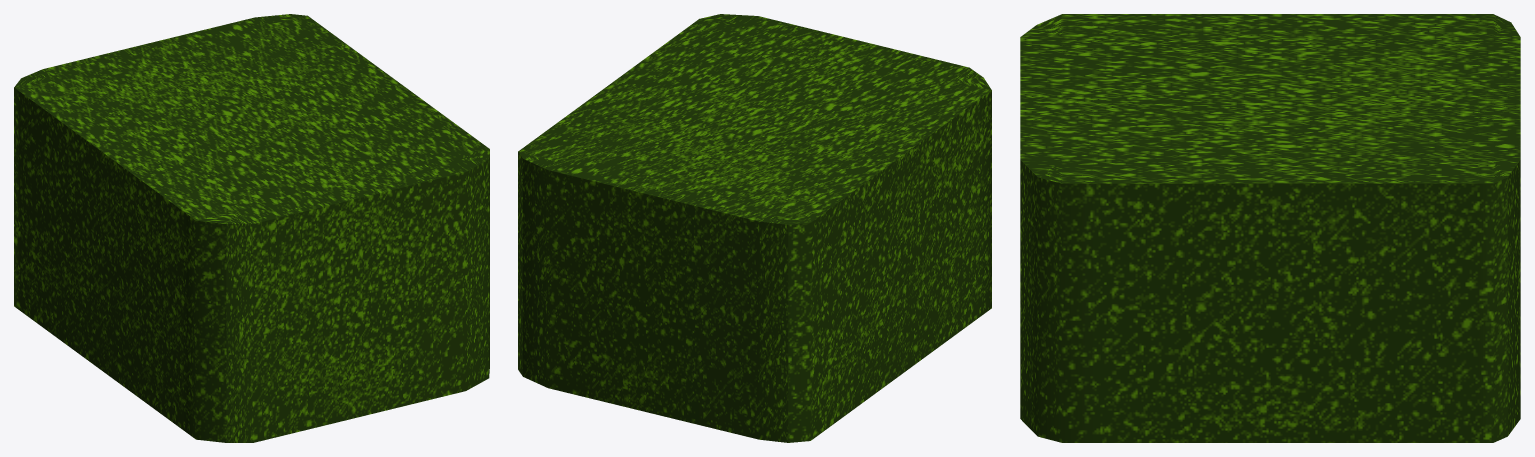
Rendered from platform3.fbx.
3 renders of one model, left to right at view 1: azimuth 30°, elevation 25°; view 2: azimuth 150°, elevation 25°; view 3: azimuth 270°, elevation 25°, orthographic. The views are drawn at different scales.
Visible parts, largest first — view 1: pCube4; view 2: pCube4; view 3: pCube4.
Part boxes in pixels (x1,y1,x2,y2): pCube4: (14,14,489,442); pCube4: (518,14,991,442); pCube4: (1020,14,1520,442).
Bounding box in the file's own units: 427 × 304 × 531.
Materials: 1 (1 with a texture image).
